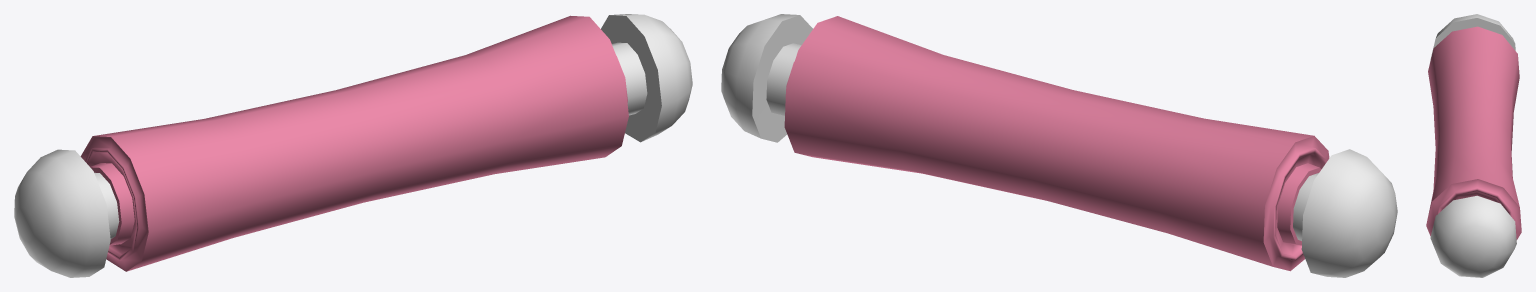
Rendered from FBX_Scroll_Closed_A.fbx.
3 views of the same model, side by side, from view 1: azimuth 30°, elevation 25°; view 2: azimuth 150°, elevation 25°; view 3: azimuth 270°, elevation 25° (orthographic). The views are drawn at different scales.
Parts seen in each view (by area): view 1: FBX_Scroll_Closed_A.; view 2: FBX_Scroll_Closed_A.; view 3: FBX_Scroll_Closed_A..
Part boxes in pixels (left/top/right/bottom): FBX_Scroll_Closed_A.: left=14, top=14, right=692, bottom=277; FBX_Scroll_Closed_A.: left=721, top=14, right=1397, bottom=277; FBX_Scroll_Closed_A.: left=1426, top=14, right=1521, bottom=277.
Size of the model in its own units: 52.79 by 10.1 by 10.09.
